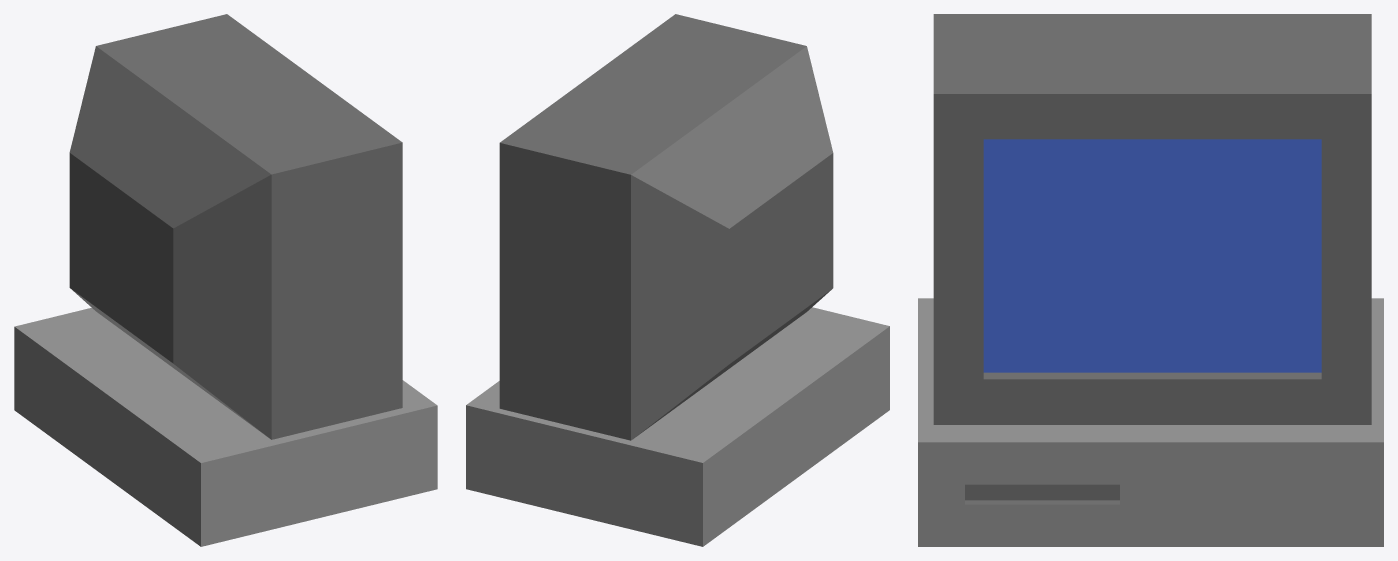
3 renders of one model, left to right at view 1: azimuth 30°, elevation 25°; view 2: azimuth 150°, elevation 25°; view 3: azimuth 270°, elevation 25°, orthographic. The views are drawn at different scales.
Parts seen in each view (by area): view 1: Cube.001; view 2: Cube.001; view 3: Cube.001.
Part boxes in pixels (x1,y1,x2,y2): Cube.001: (14,14,437,546); Cube.001: (466,14,889,546); Cube.001: (918,14,1383,546).
Bounding box in the file's own units: 0.3437 × 0.4849 × 0.4697.
